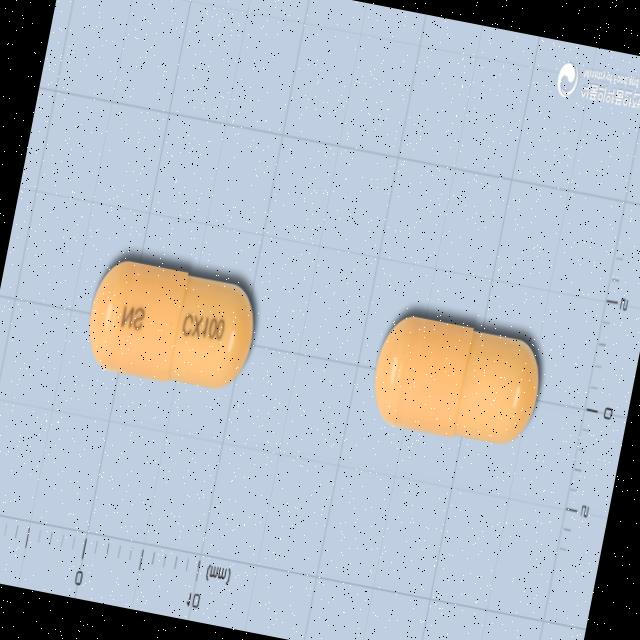Cefixime Cap- Nelson: (360, 304, 554, 460), (78, 246, 269, 404)
